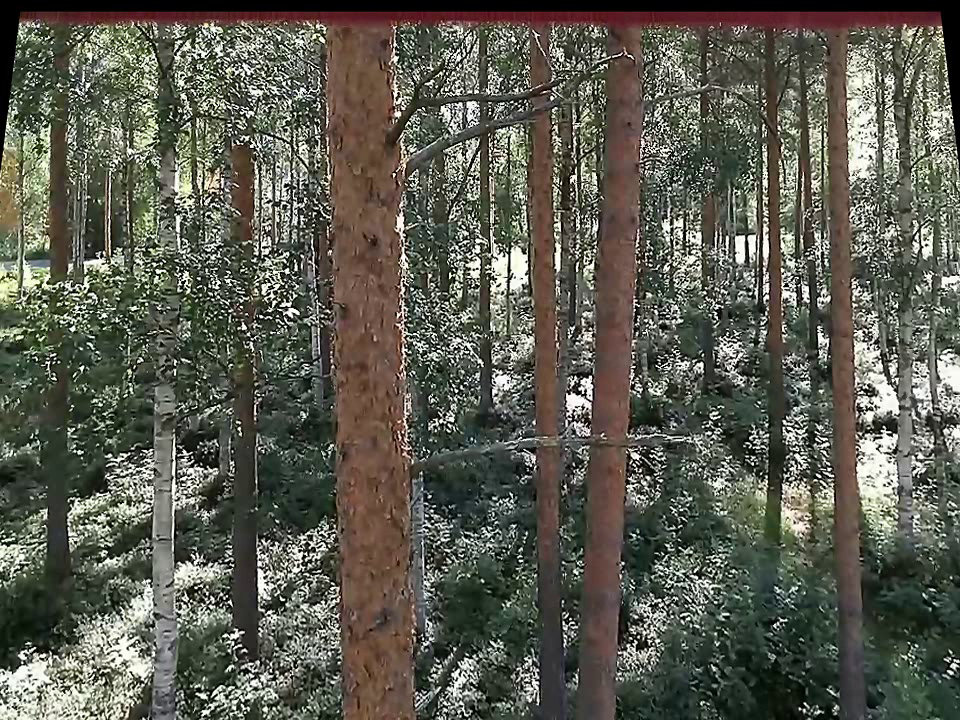branch: (416, 418, 700, 482)
trunk: (318, 31, 428, 712), (567, 27, 657, 706), (208, 62, 279, 671), (818, 37, 877, 705), (515, 22, 571, 709), (140, 54, 198, 704), (30, 48, 88, 612), (884, 47, 928, 520), (682, 35, 731, 402), (755, 41, 797, 430), (463, 27, 499, 425)
